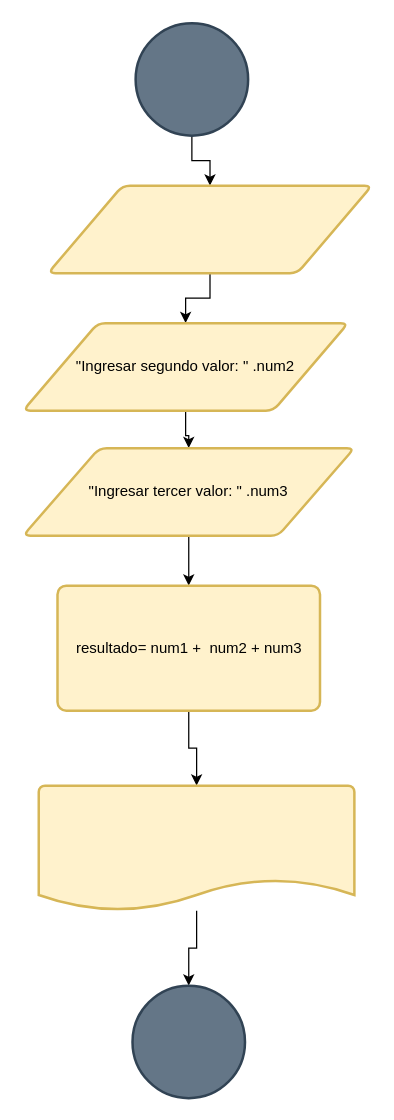
This 394x1120 diagram has some shape labels left out. The centre of each missing label's shape, as x and y in pixels:
"El valor total de la suma es: " . resultado: pixel 196 847
"Ingresar primer valor: " .num1: pixel 209 229
